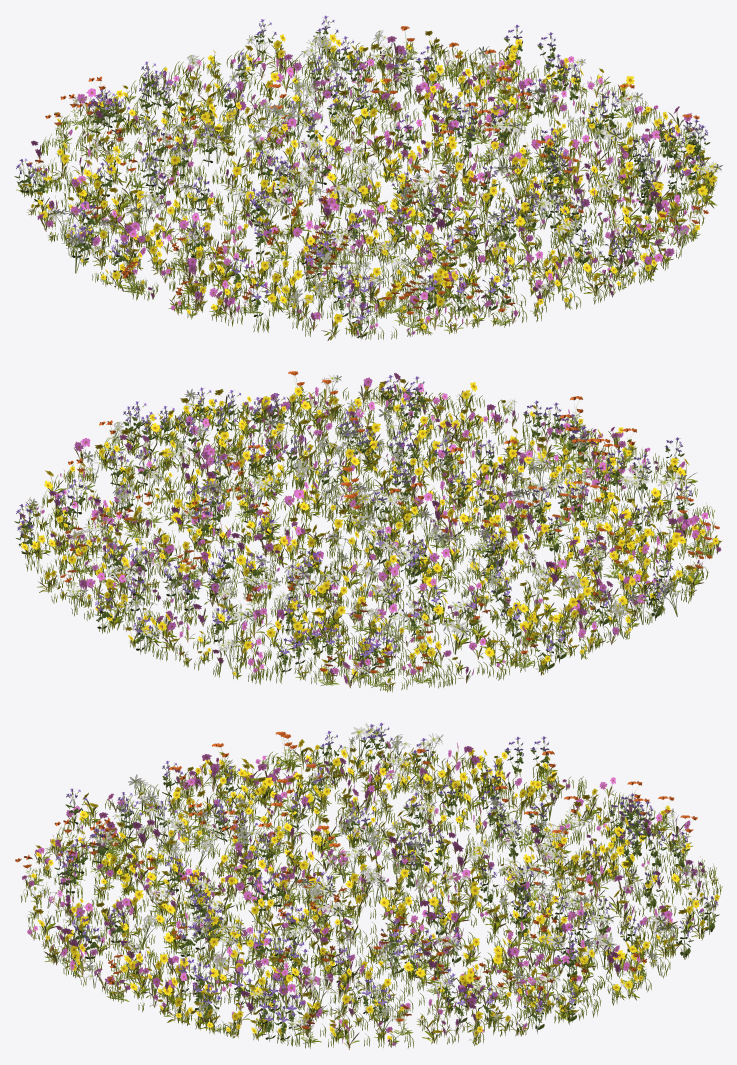
Rendered from OrbitFlower_250729v2.glb.
3 views of the same model, one above another, from view 1: azimuth 30°, elevation 25°; view 2: azimuth 150°, elevation 25°; view 3: azimuth 270°, elevation 25° (orthographic).
Visible parts, largest first — view 1: Flower_AR; view 2: Flower_AR; view 3: Flower_AR.
Boxes of the visible parts, x1,y1,x2,y2 form: Flower_AR: [14, 15, 722, 340]; Flower_AR: [14, 371, 721, 692]; Flower_AR: [15, 722, 722, 1049].
Size of the model in its own units: 10.13 by 0.6344 by 9.99.
7 materials, 7 textured.
